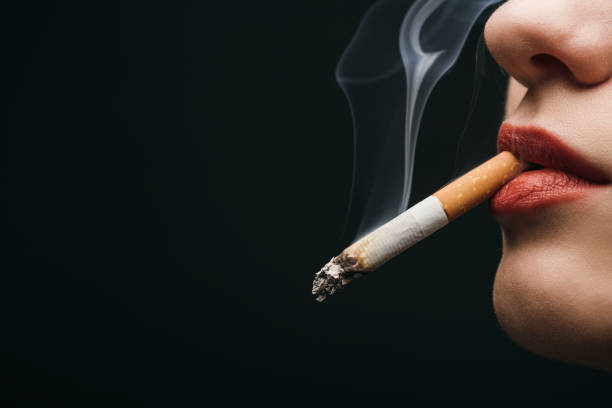cigarette: (310, 148, 524, 303)
